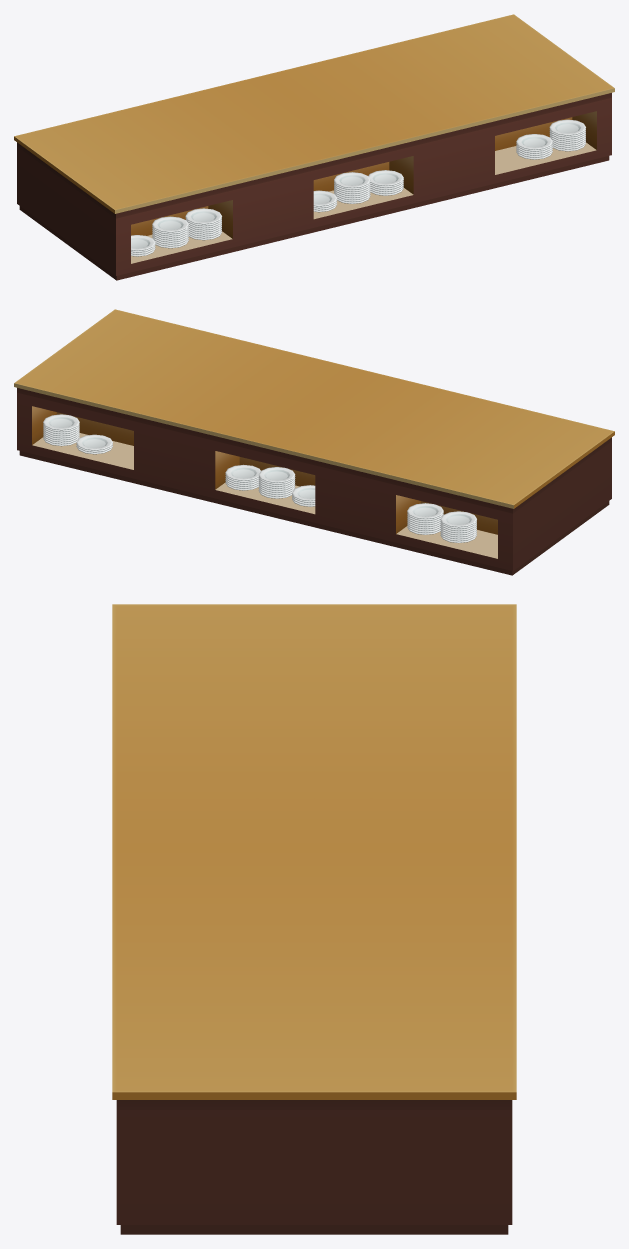
File: CR_caf_table_001.FBX
3 views of the same model, one above another, from view 1: azimuth 30°, elevation 25°; view 2: azimuth 150°, elevation 25°; view 3: azimuth 270°, elevation 25° (orthographic). The views are drawn at different scales.
Visible parts, largest first — view 1: CR_caf_table_001; view 2: CR_caf_table_001; view 3: CR_caf_table_001.
Boxes of the visible parts, bbox=[...] form: CR_caf_table_001: bbox=[14, 14, 614, 280]; CR_caf_table_001: bbox=[14, 309, 614, 575]; CR_caf_table_001: bbox=[112, 604, 516, 1234].
Size of the model in its own units: 371 by 51.62 by 130.
